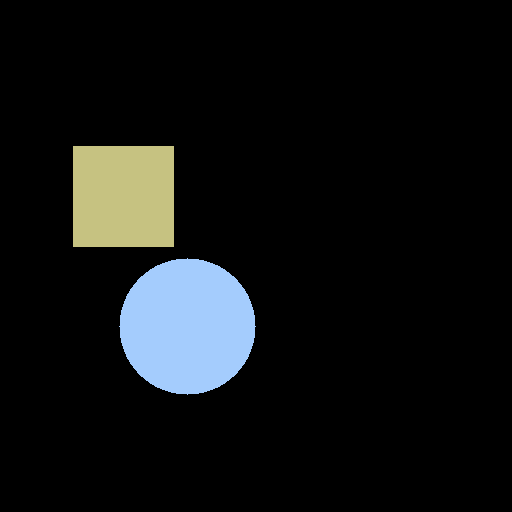circle: (119, 258, 255, 394)
square: (73, 146, 173, 246)
